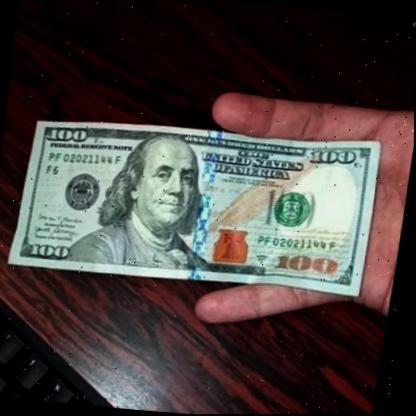one_hundred-front: (8, 103, 393, 307)
